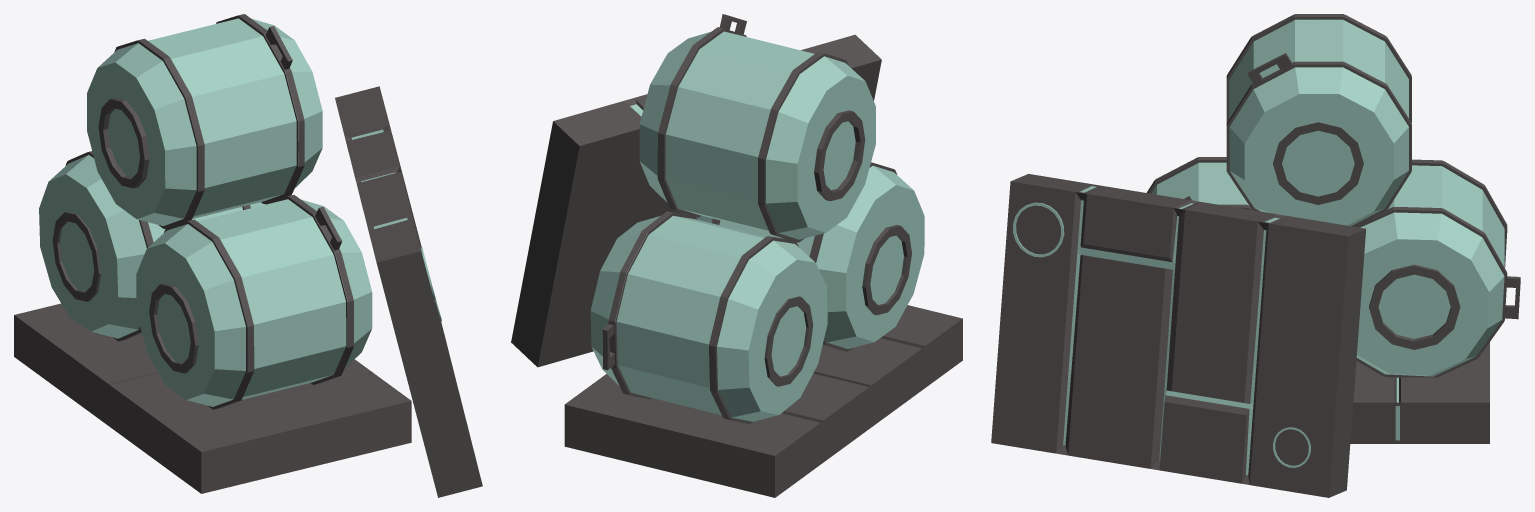
The model's file is barriles_caja.fbx.
3 renders of one model, left to right at view 1: azimuth 30°, elevation 25°; view 2: azimuth 150°, elevation 25°; view 3: azimuth 270°, elevation 25°, orthographic.
Visible parts, largest first — view 1: pPipe9, pPipe10, pCube3, pPipe13, pPipe8; view 2: pPipe10, pPipe8, pCube3, pPipe13, pPipe9; view 3: pPipe13, pPipe10, pPipe8, pCube3, pPipe9.
Boxes of the visible parts, <box> form: pPipe9: <box>136,195,372,409</box>; pPipe10: <box>87,14,322,228</box>; pCube3: <box>14,303,411,493</box>; pPipe13: <box>335,86,482,497</box>; pPipe8: <box>39,151,265,341</box>; pPipe10: <box>639,14,875,242</box>; pPipe8: <box>590,211,827,424</box>; pCube3: <box>564,305,962,497</box>; pPipe13: <box>511,34,881,367</box>; pPipe9: <box>696,162,924,351</box>; pPipe13: <box>991,174,1365,497</box>; pPipe10: <box>1226,14,1411,226</box>; pPipe8: <box>1356,159,1520,377</box>; pCube3: <box>1350,342,1489,443</box>; pPipe9: <box>1146,157,1252,210</box>.
Bounding box in the file's own units: 4.35 × 4.51 × 5.87.
